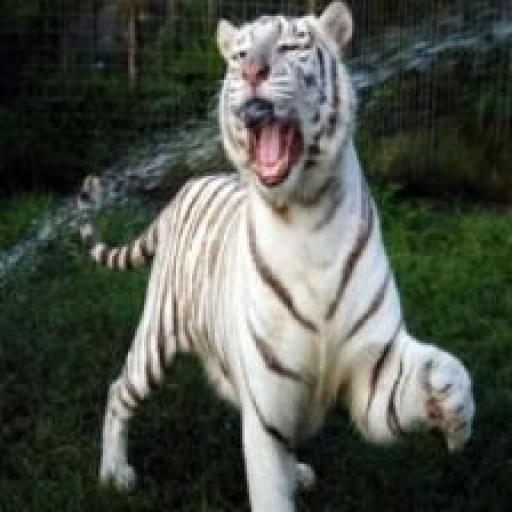Tiger: (82, 2, 480, 512)
